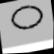no answer: (5, 0, 46, 34)
